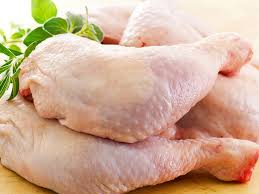Chicken: (34, 49, 228, 150)
